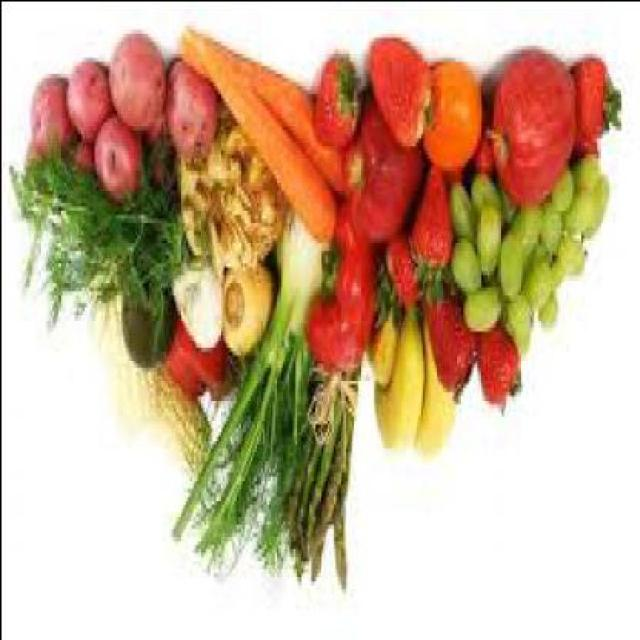BIODEGRADABLE: (170, 214, 335, 583), (6, 132, 182, 334), (183, 28, 334, 246), (178, 45, 364, 202), (170, 92, 288, 274), (278, 375, 354, 596), (486, 48, 572, 214), (338, 88, 422, 245), (302, 210, 371, 378), (364, 286, 422, 459), (132, 370, 206, 484), (101, 32, 164, 157), (364, 40, 425, 154), (419, 60, 478, 177), (162, 318, 240, 402), (215, 262, 276, 366), (408, 164, 448, 314), (421, 290, 470, 407), (164, 61, 213, 165), (414, 322, 452, 455), (115, 282, 171, 371), (368, 233, 419, 330), (164, 265, 219, 350), (87, 121, 139, 210), (567, 56, 618, 146), (310, 52, 355, 153), (24, 76, 76, 161), (448, 92, 492, 182), (61, 61, 110, 141), (470, 334, 516, 411), (364, 306, 398, 394), (139, 128, 170, 198), (516, 258, 549, 322), (441, 186, 474, 246), (464, 173, 494, 238), (446, 242, 476, 306), (460, 286, 498, 334), (492, 233, 518, 302), (500, 299, 526, 366), (509, 206, 536, 266), (577, 182, 603, 242), (535, 201, 559, 257), (476, 202, 495, 269), (561, 193, 587, 238), (565, 137, 593, 177), (547, 169, 571, 214), (570, 153, 596, 190), (67, 141, 91, 181), (559, 242, 581, 269), (535, 298, 553, 330), (498, 193, 512, 233), (548, 261, 561, 294)
